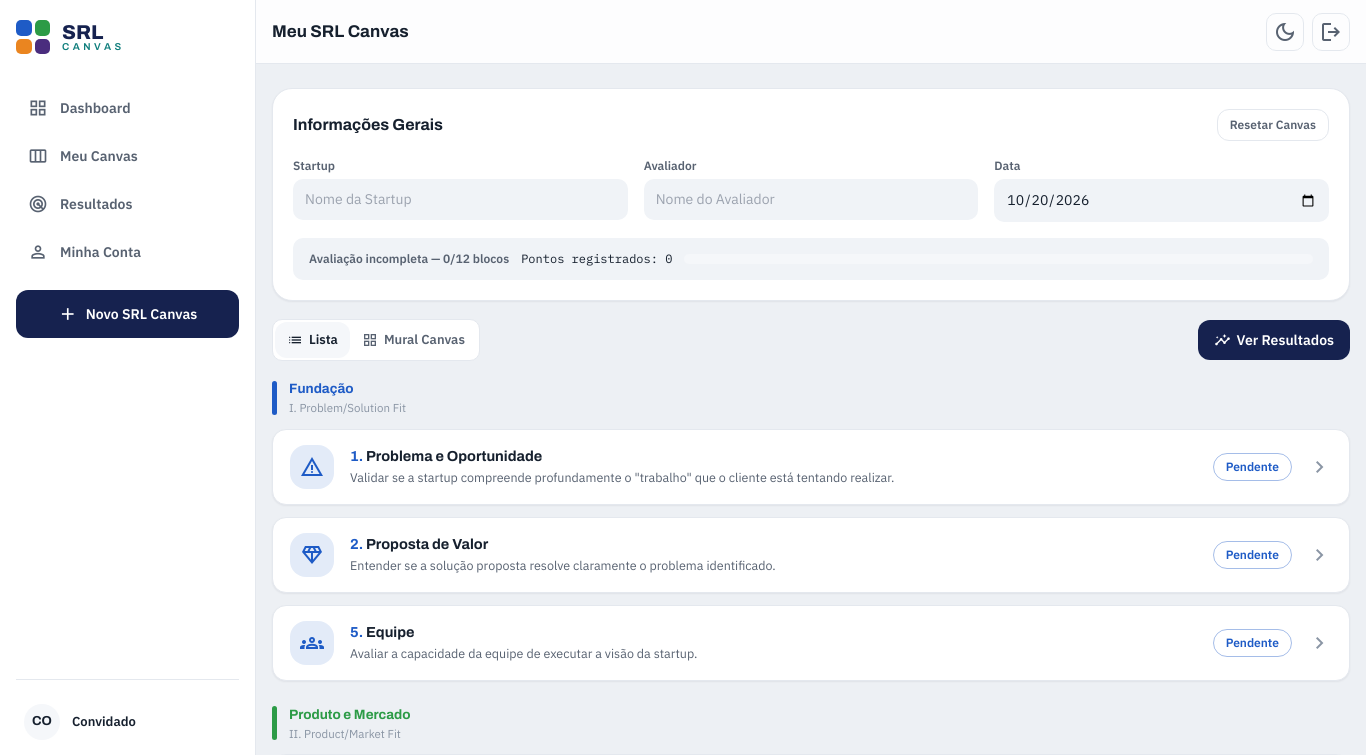
it: CanvasPage › abre o modal ao clicar num bloco e fecha ao cancelar
Click the button "Problema e Oportunidade" at (811, 466), box [272,428,1350,504]
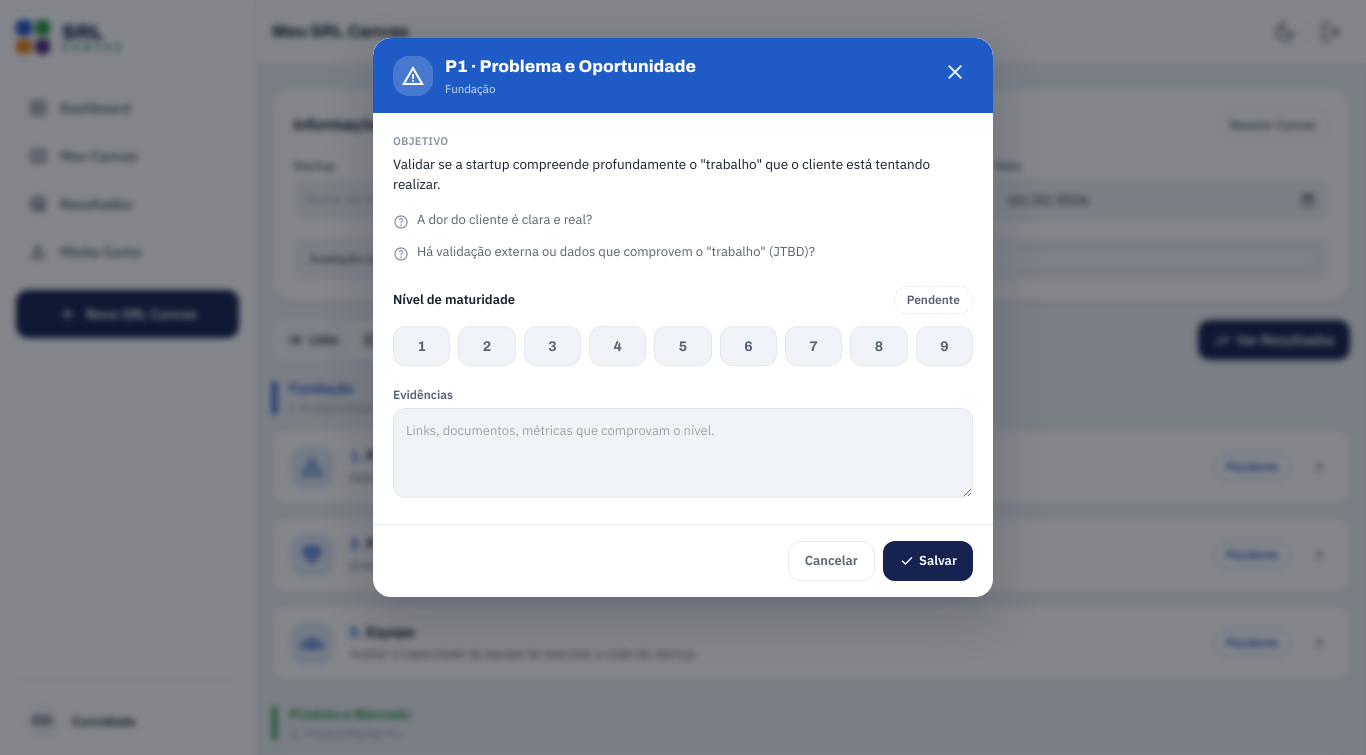
Result: the text "P1 · Problema e Oportunidade" is shown at [445,54,696,80]
Click the button "Cancelar" at (831, 561), box [788,541,875,581]
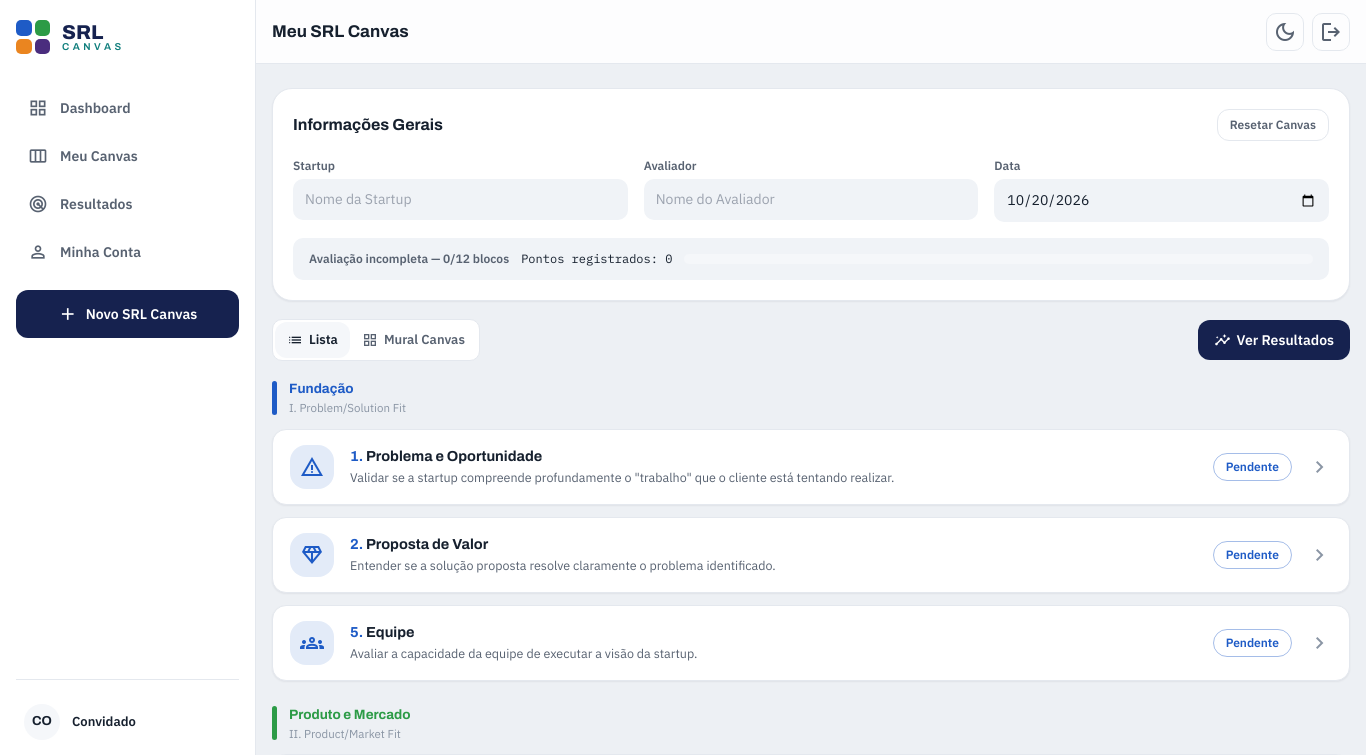
Result: the dialog is gone
